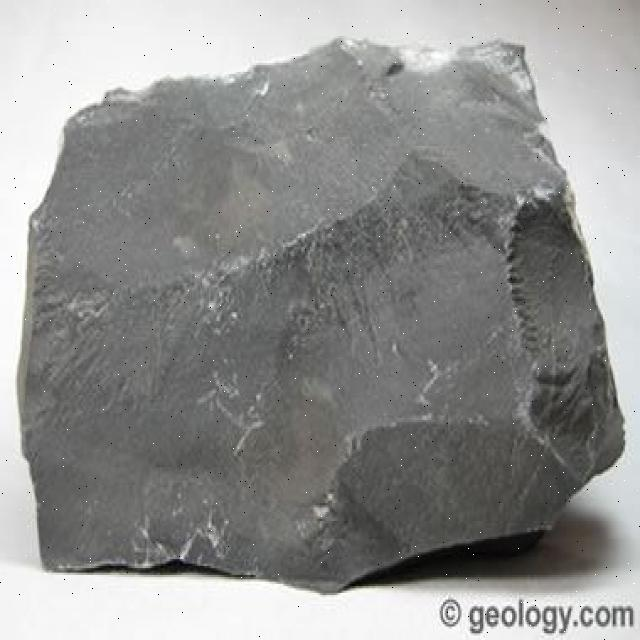Sedimentary: (12, 36, 626, 582)
